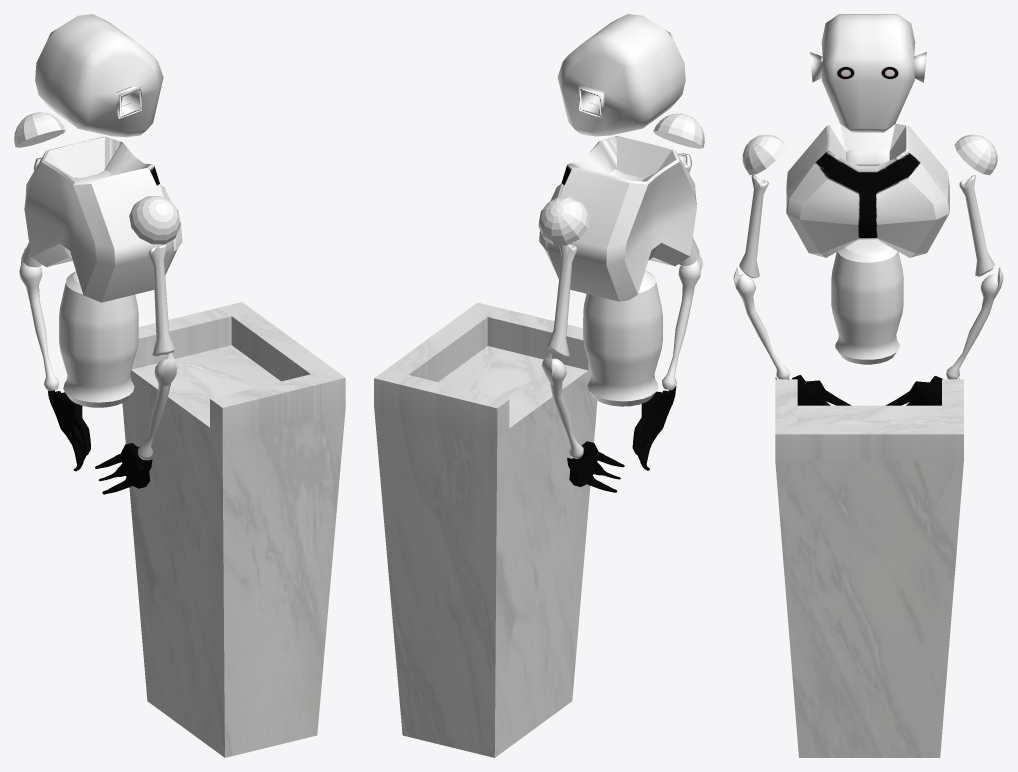
Rendered from robot.fbx.
3 renders of one model, left to right at view 1: azimuth 30°, elevation 25°; view 2: azimuth 150°, elevation 25°; view 3: azimuth 270°, elevation 25°, orthographic. The views are drawn at different scales.
Parts seen in each view (by area): view 1: table, rob_hand; view 2: table, rob_hand; view 3: table, rob_hand.
Part boxes in pixels (x1,y1,x2,y2): table: (122, 302, 345, 757); rob_hand: (14, 14, 182, 494); table: (374, 302, 597, 757); rob_hand: (538, 14, 704, 492); table: (775, 379, 963, 757); rob_hand: (733, 14, 1003, 405).
Size of the model in its own units: 22.25 by 64.03 by 23.73.
